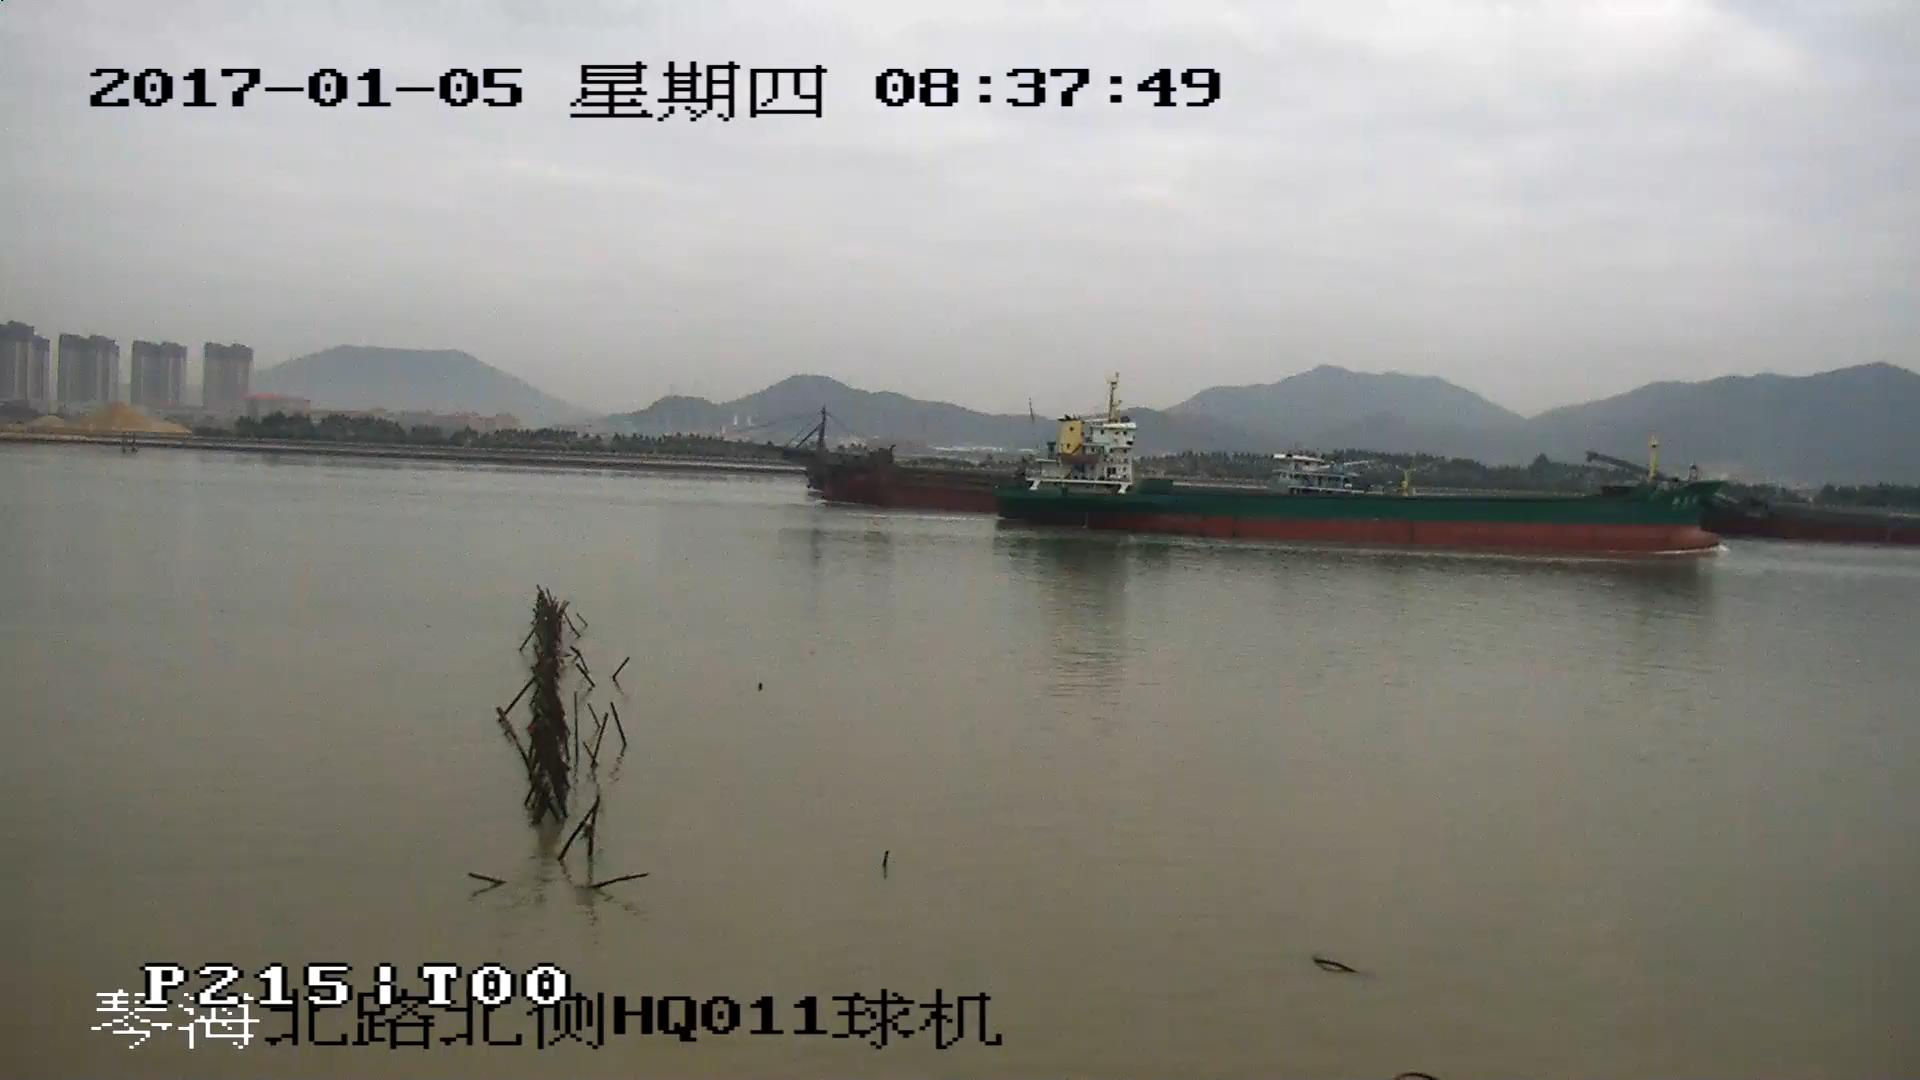bulk cargo carrier: (723, 418, 998, 514), (1729, 484, 1920, 548)
general cargo ship: (988, 388, 1727, 555)
